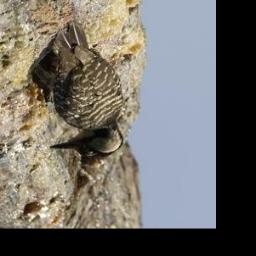Woodpecker: (30, 19, 125, 161)
